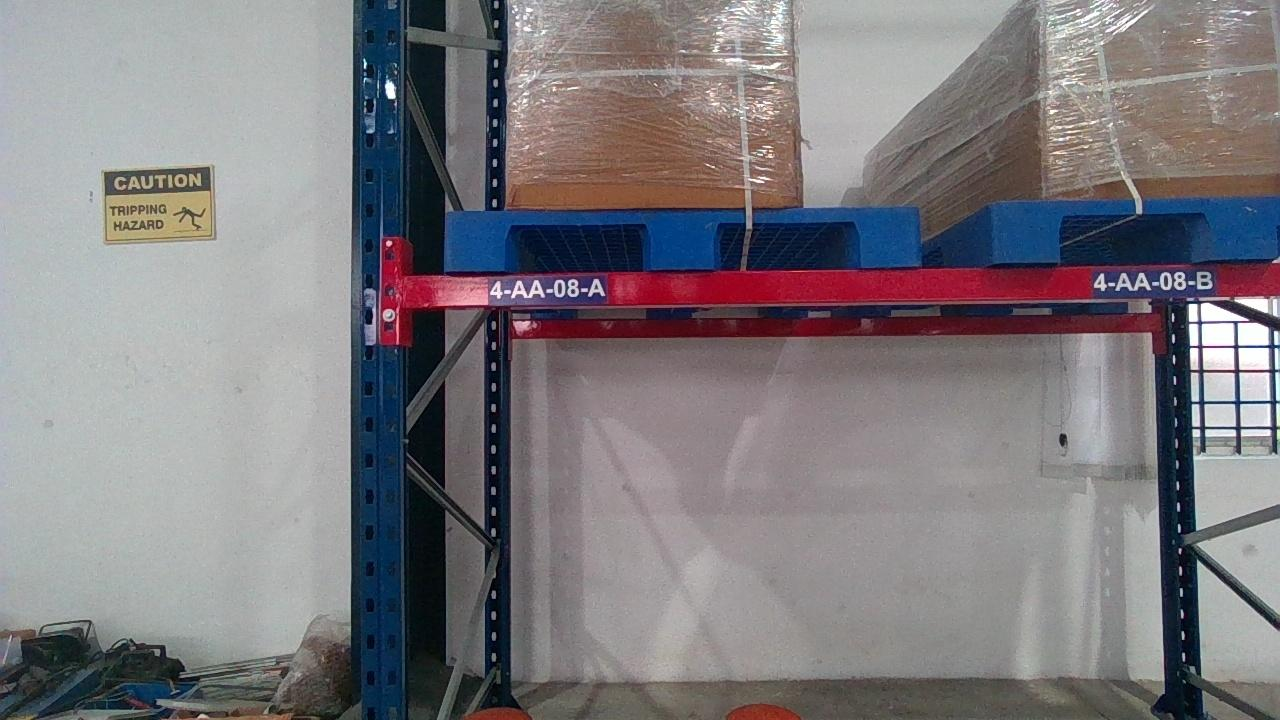h_rack: (400, 263, 1278, 305)
small_pallet: (441, 207, 920, 267), (991, 194, 1279, 257)
